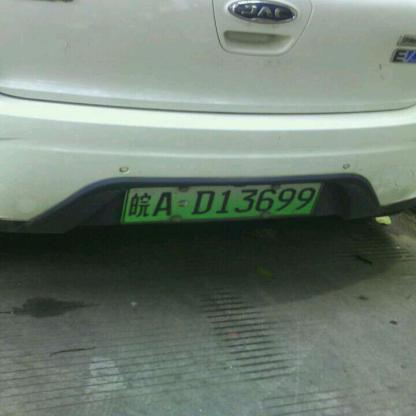lp: (123, 184, 321, 221)
